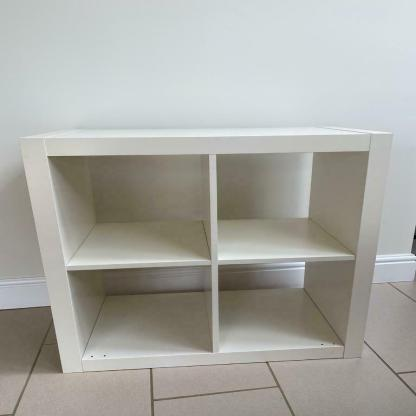lamp: (16, 130, 392, 374)
